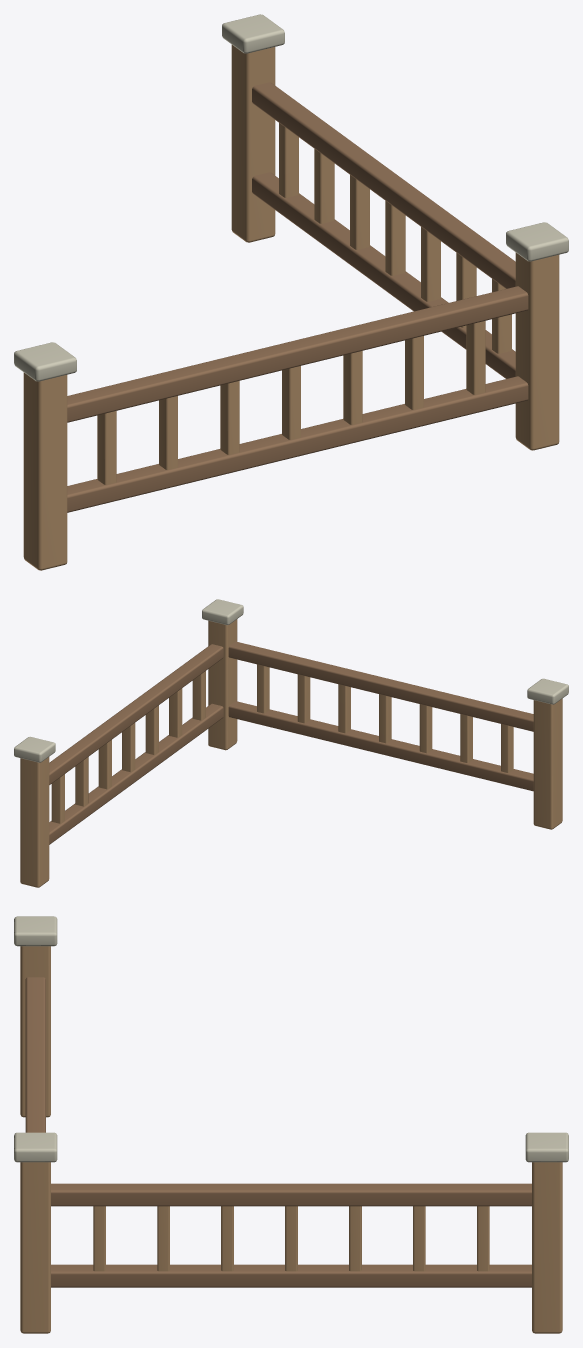
Rendered from SM_Fence_Corner_4m.fbx.
3 views of the same model, one above another, from view 1: azimuth 30°, elevation 25°; view 2: azimuth 150°, elevation 25°; view 3: azimuth 270°, elevation 25° (orthographic). The views are drawn at different scales.
Visible parts, largest first — view 1: SM_Fence_Corner_4m; view 2: SM_Fence_Corner_4m; view 3: SM_Fence_Corner_4m.
Part boxes in pixels (x1=…): SM_Fence_Corner_4m: x1=14, y1=14, x2=568, y2=570; SM_Fence_Corner_4m: x1=14, y1=599, x2=568, y2=887; SM_Fence_Corner_4m: x1=14, y1=916, x2=568, y2=1333.
Bounding box in the file's own units: 4.34 × 1.62 × 4.34.
